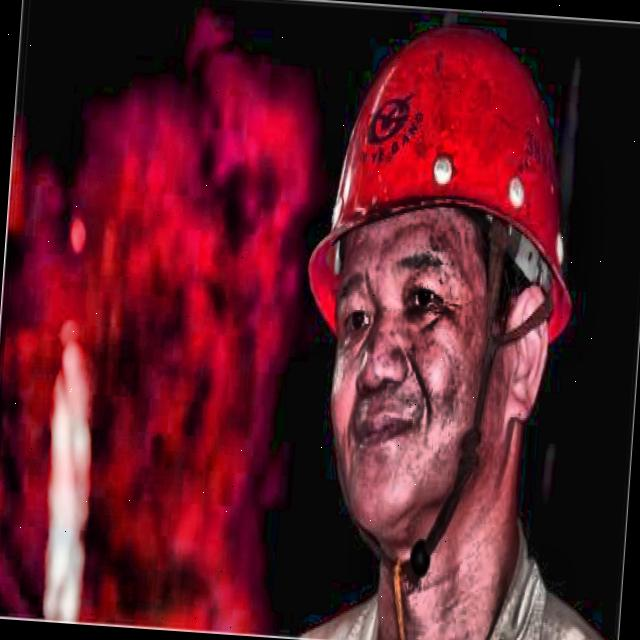helmet: (270, 0, 590, 603)
